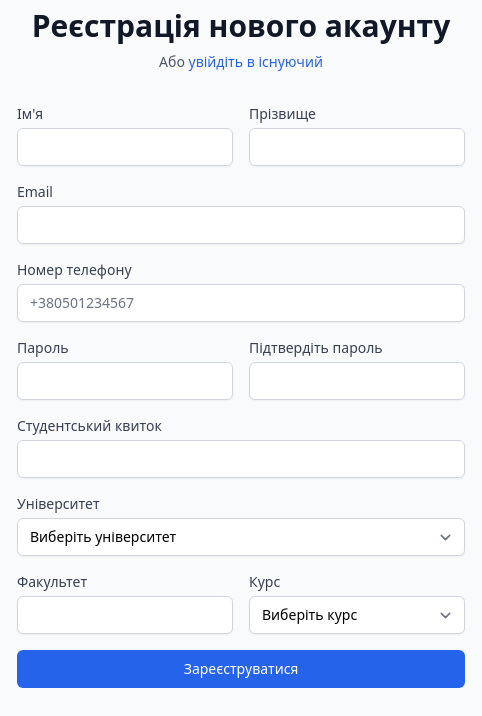
it: RegisterPage Component › Form Validation › shows validation errors for empty required fields
This screenshot has width=482, height=716.
(page scrolled)
Click the button "Зареєструватися" at point(241, 669), box [17,650,465,688]
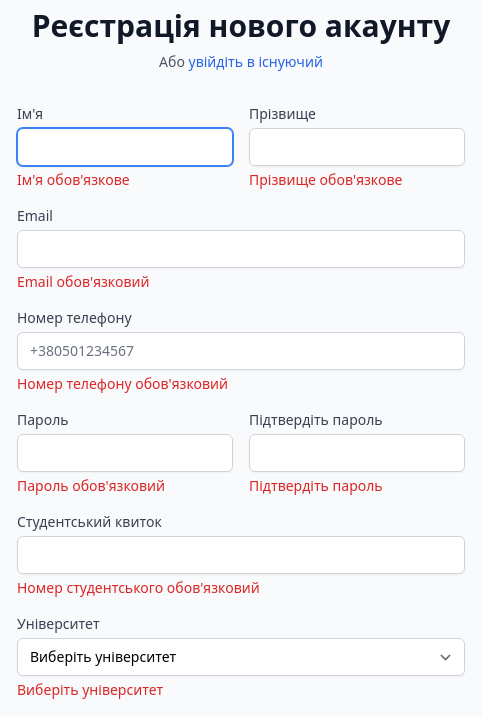
Check: the text "Ім'я обов'язкове" is shown, box [17,170,130,189]
Check: the text "Прізвище обов'язкове" is shown, box [249,170,402,189]
Check: the text "Email обов'язковий" is shown, box [17,272,150,291]
